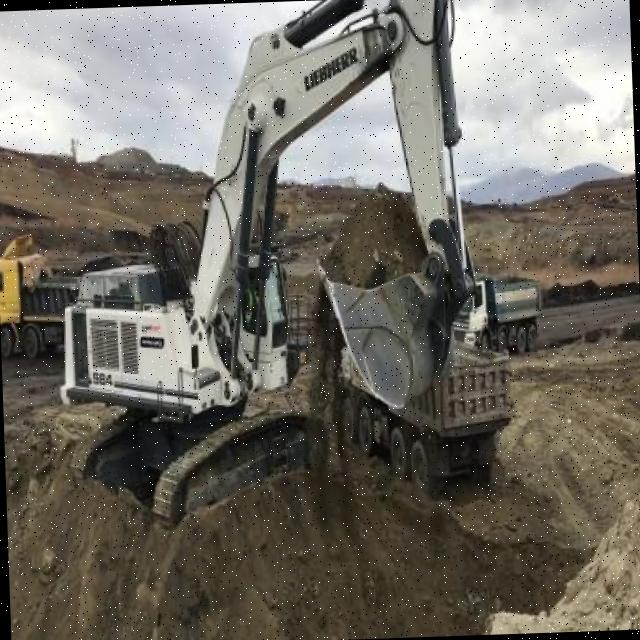Dump Truck: (339, 342, 518, 502), (0, 228, 76, 359), (449, 264, 544, 352)
Excavator: (47, 0, 482, 532)
